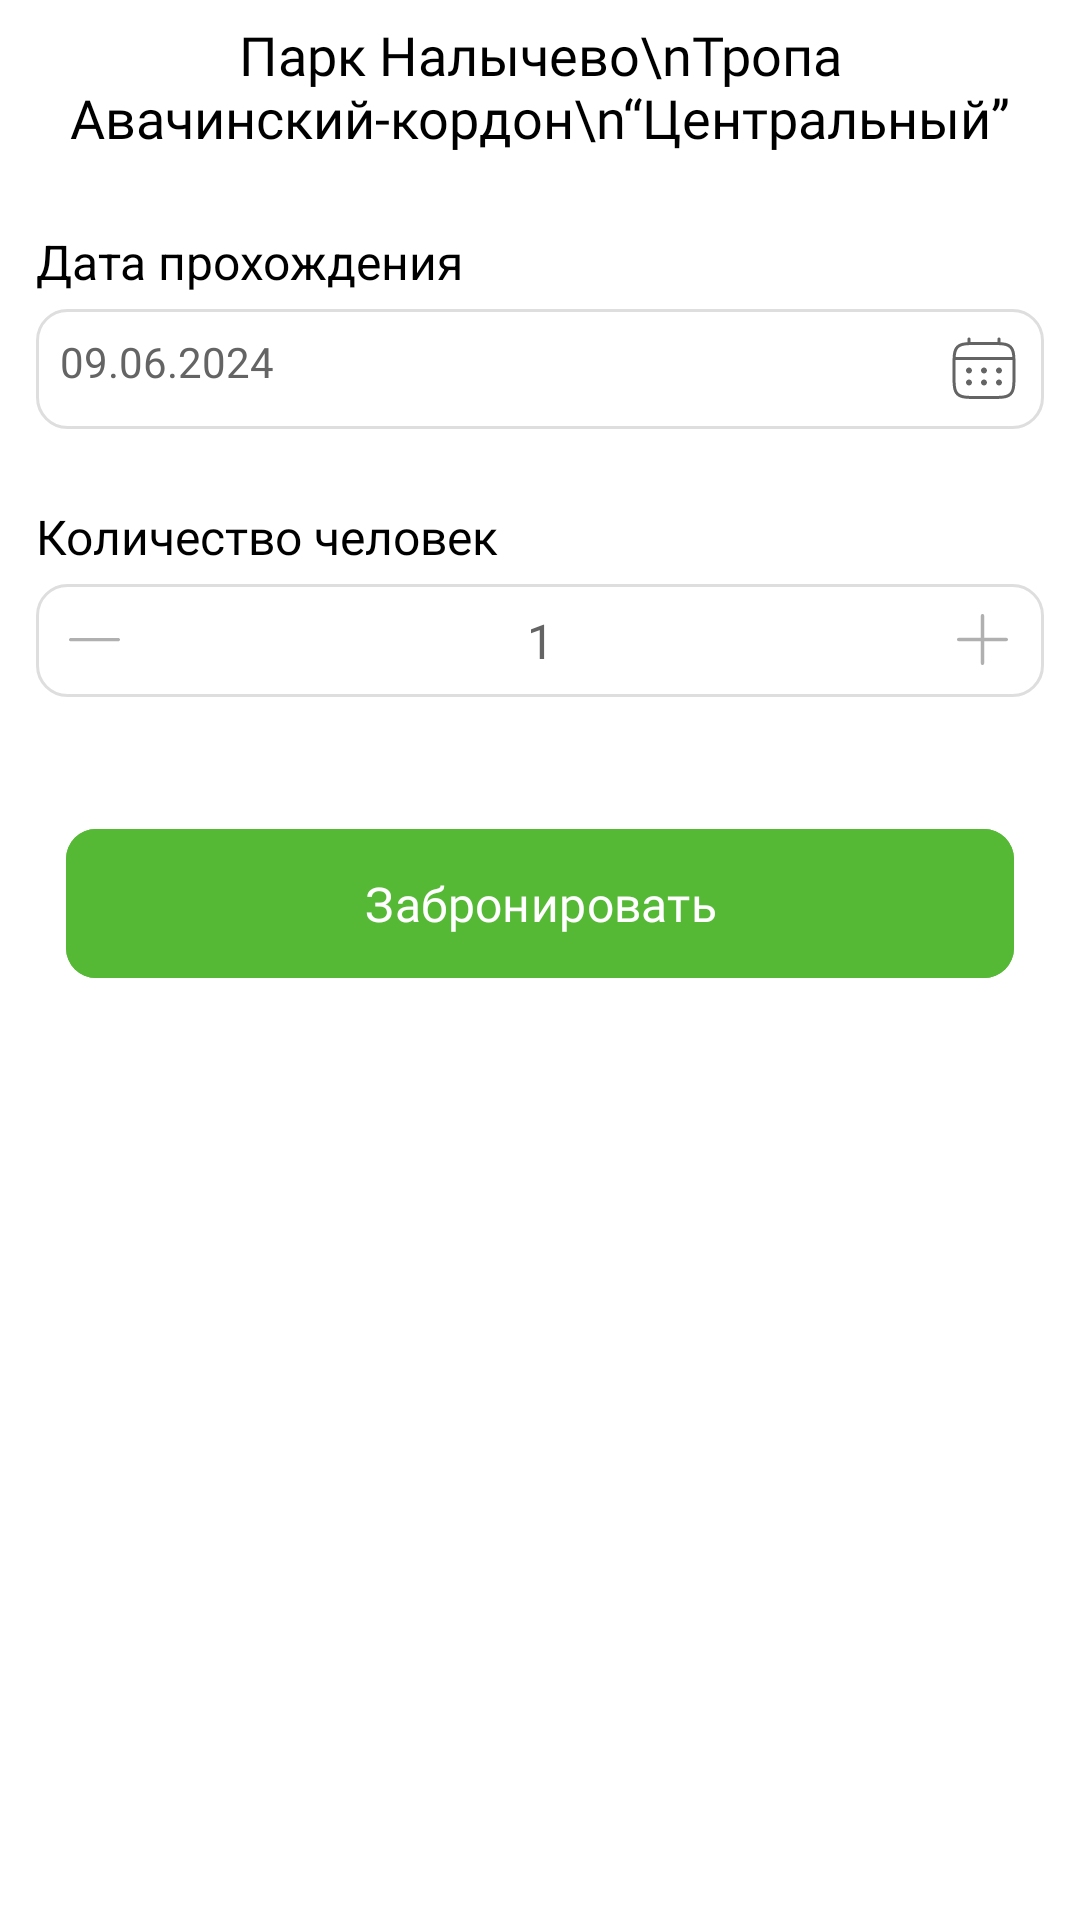

Named icons in this screenshot (1080 × 1920) and their centers, (x,y):
plus: (982,639)
